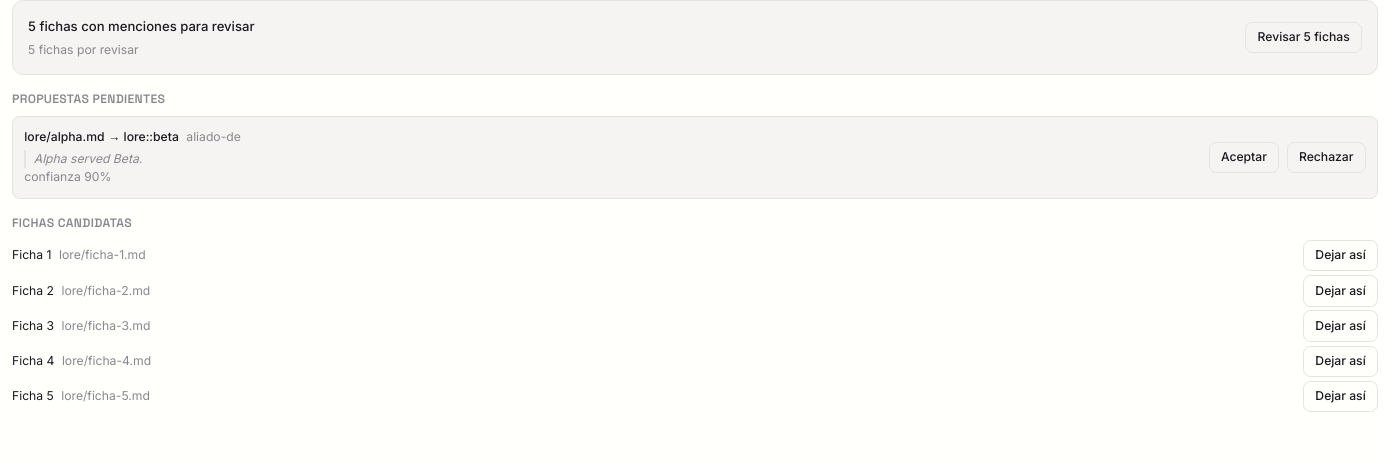
Test: ProposalsPanel › reports an unavailable provider without pretending work happened
Click the button with test id "sweep-button" at (1304, 38), box [1245,22,1362,53]
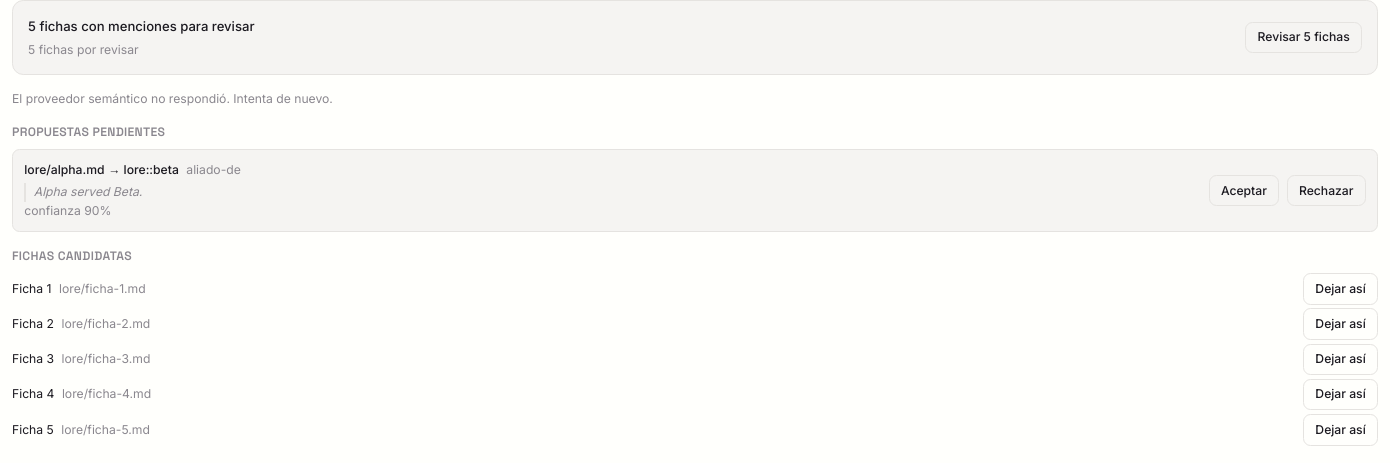
Expected: the text with test id "sweep-notice" reads "El proveedor semántico no respondió. Intenta de nuevo.", [12,91,333,106]
